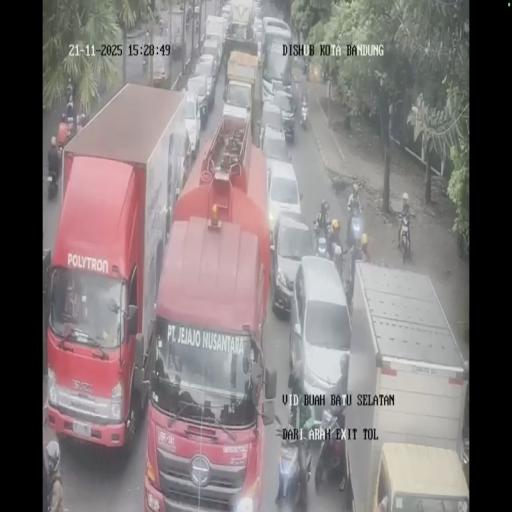car: (265, 158, 302, 242), (267, 86, 297, 143), (185, 74, 210, 132), (262, 16, 292, 52), (200, 37, 221, 82), (253, 17, 263, 51), (293, 55, 307, 79), (220, 4, 232, 28)
motorcycle: (328, 236, 346, 280), (313, 221, 331, 260), (398, 213, 412, 263), (344, 260, 356, 309), (300, 99, 309, 130)
truck: (47, 82, 194, 452), (338, 262, 468, 512), (223, 5, 259, 70), (149, 32, 171, 85), (169, 6, 186, 56)
